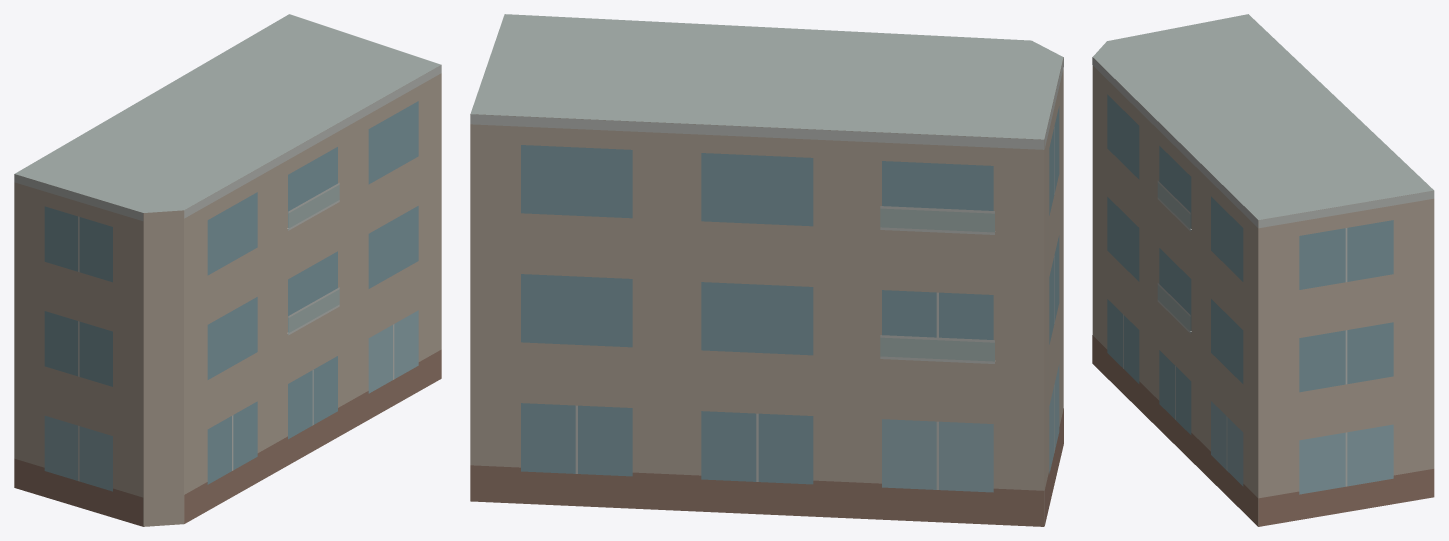
File: survey-upis-32885650.glb
The picture shows the model from 3 angles, left to right: view 1: azimuth 30°, elevation 25°; view 2: azimuth 150°, elevation 25°; view 3: azimuth 270°, elevation 25°; orthographic projection. The views are drawn at different scales.
Parts seen in each view (by area): view 1: survey-upis-32885650.tmp; view 2: survey-upis-32885650.tmp; view 3: survey-upis-32885650.tmp.
Part boxes in pixels (<box>): survey-upis-32885650.tmp: <box>14,14,441,526</box>; survey-upis-32885650.tmp: <box>470,14,1063,526</box>; survey-upis-32885650.tmp: <box>1092,14,1434,526</box>.
Bounding box in the file's own units: 13.24 × 9.18 × 9.28.
